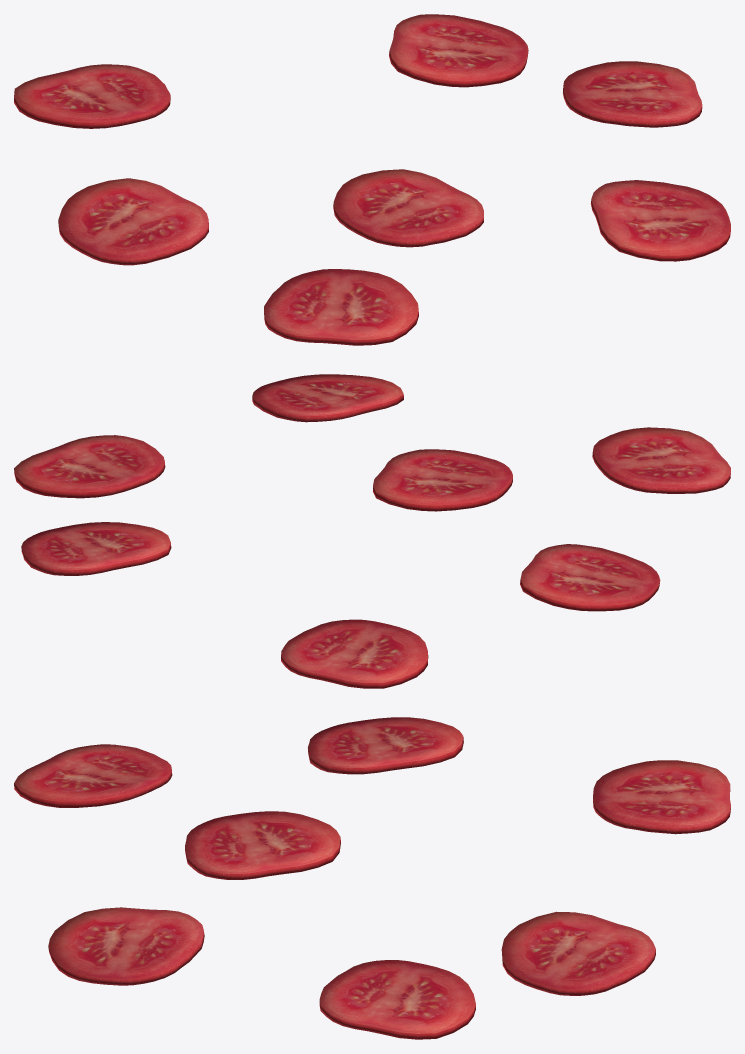
The model's file is Pizza_Tomato.fbx.
The picture shows the model from 3 angles, top to bottom: view 1: azimuth 30°, elevation 25°; view 2: azimuth 150°, elevation 25°; view 3: azimuth 270°, elevation 25°; orthographic projection. The views are drawn at different scales.
Parts seen in each view (by area): view 1: 6Tomatoes; view 2: 6Tomatoes; view 3: 6Tomatoes.
Part boxes in pixels (box(x1,y1,x2,y2)): 6Tomatoes: box(14, 14, 730, 345); 6Tomatoes: box(14, 374, 730, 688); 6Tomatoes: box(14, 717, 730, 1039).
Size of the model in its own units: 40.38 by 1.62 by 39.02.
